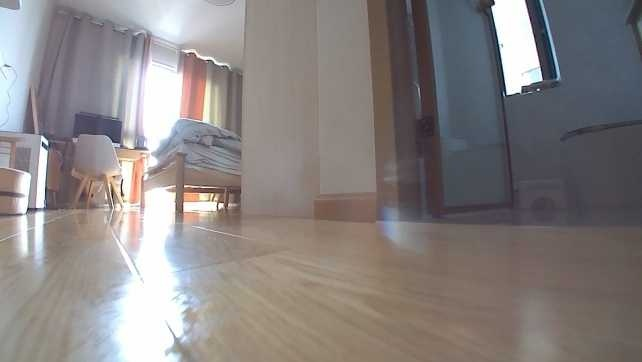bed1: (137, 115, 241, 211)
door_anno: (365, 0, 515, 225)
toilet: (553, 116, 641, 209)
